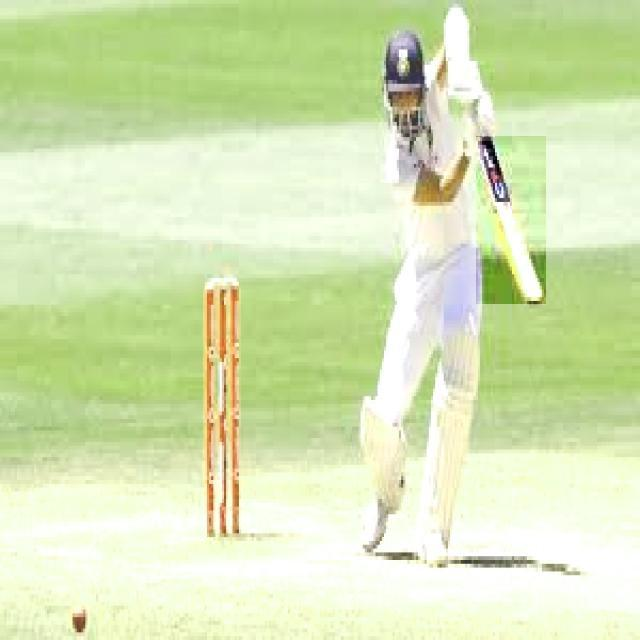bat: (478, 136, 546, 304)
toe: (520, 291, 549, 307)
